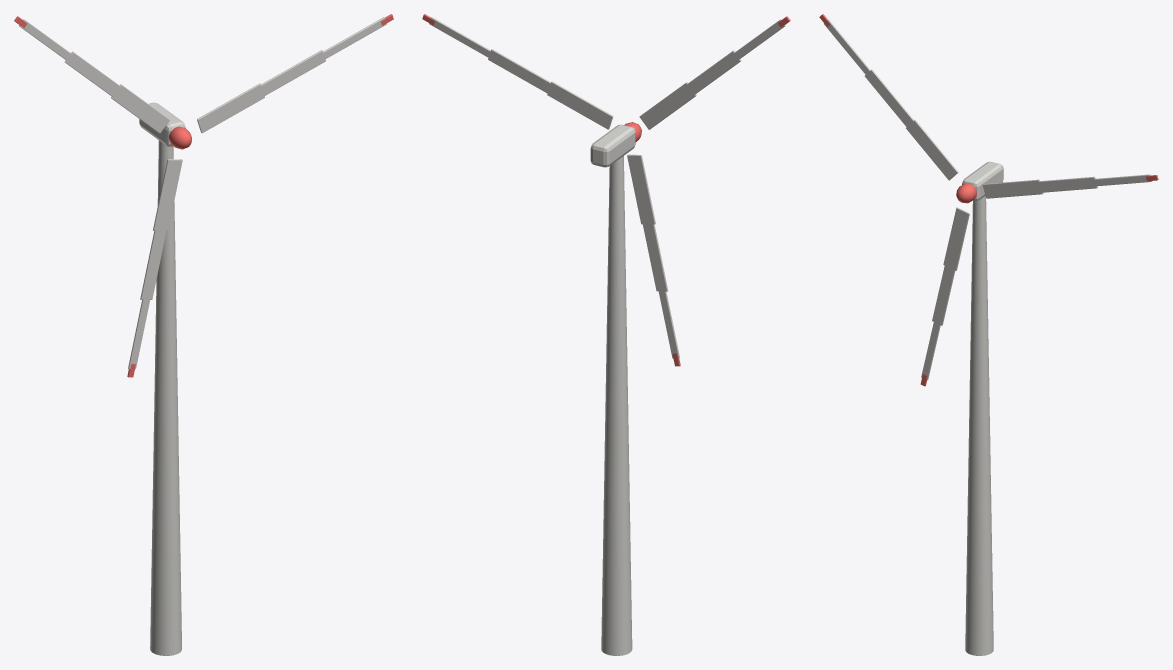
The model's file is wind_turbine.fbx.
3 views of the same model, side by side, from view 1: azimuth 30°, elevation 25°; view 2: azimuth 150°, elevation 25°; view 3: azimuth 330°, elevation 25° (orthographic). The views are drawn at different scales.
Visible parts, largest first — view 1: Visual, Spin_Y; view 2: Visual, Spin_Y; view 3: Visual, Spin_Y.
Boxes of the visible parts, left/top/right/bottom form: Visual: left=139, top=102, right=185, bottom=655; Spin_Y: left=14, top=14, right=393, bottom=377; Visual: left=590, top=124, right=635, bottom=655; Spin_Y: left=422, top=14, right=790, bottom=366; Visual: left=962, top=161, right=1003, bottom=655; Spin_Y: left=819, top=14, right=1158, bottom=386.
Size of what is drawn, in the model's own units: 3534 by 6080 by 660.
